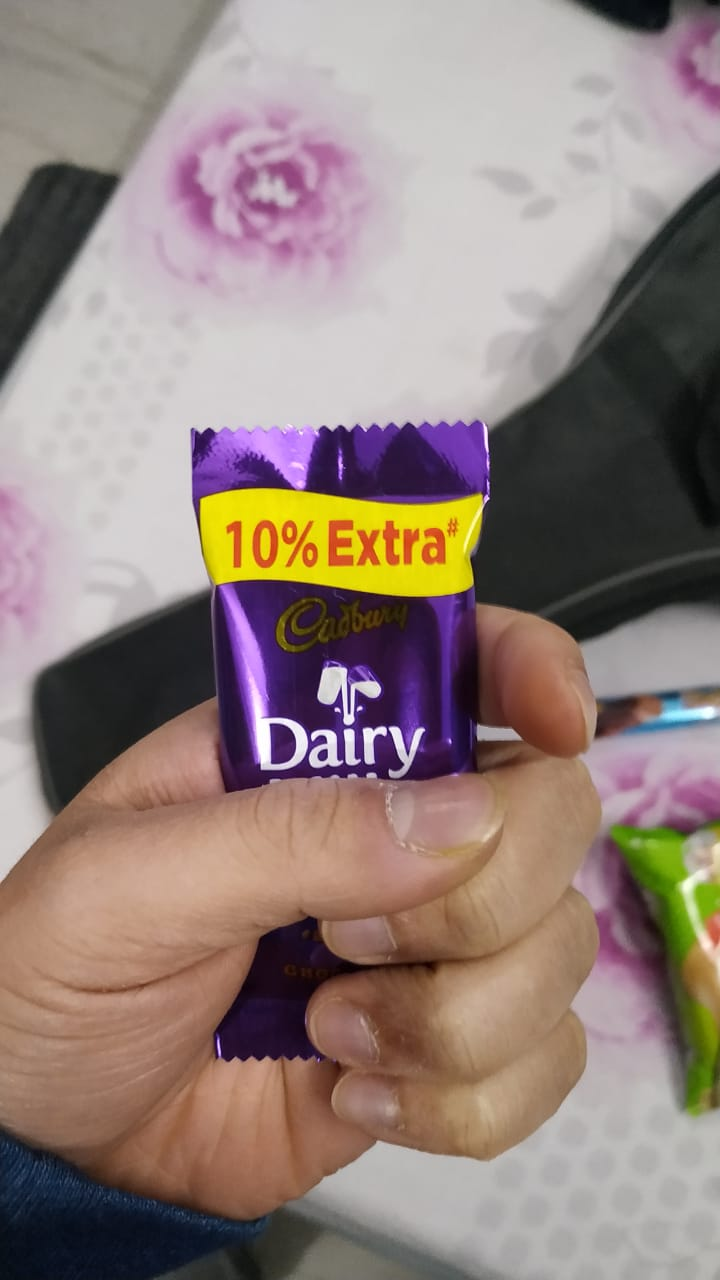dairy milk: (176, 404, 497, 782)
